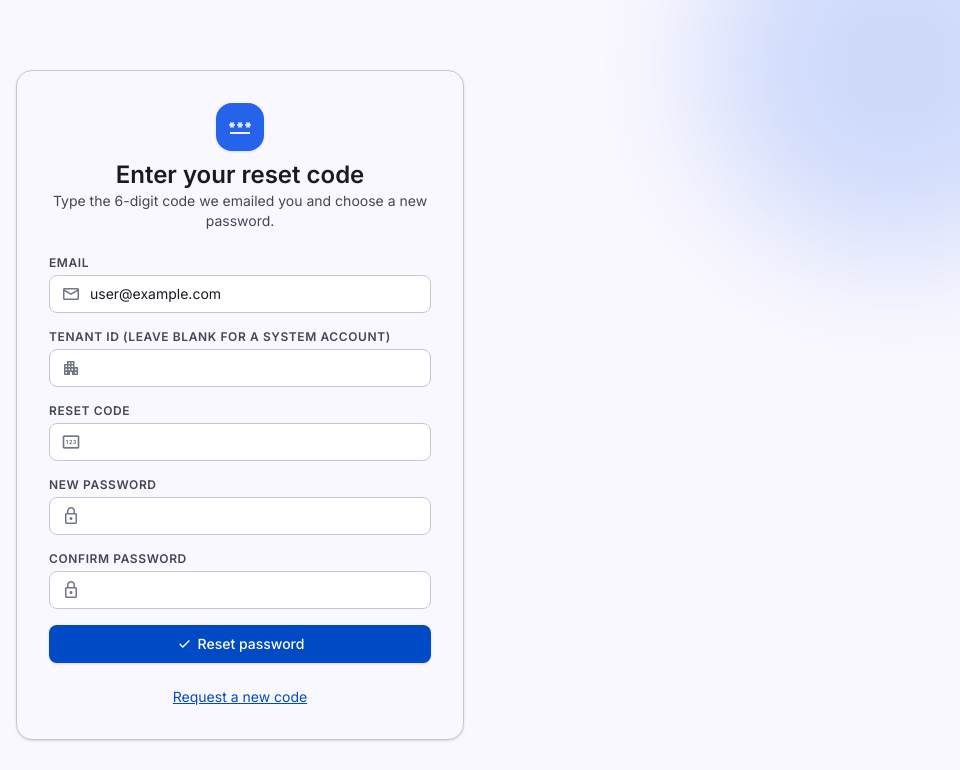
Test case: ResetPasswordPage › requires the confirmation to match
The width and height of the screenshot is (960, 770).
Step 1. Type "123456" into the field labelled "Reset code" → (240, 442), box [49,423,431,461]
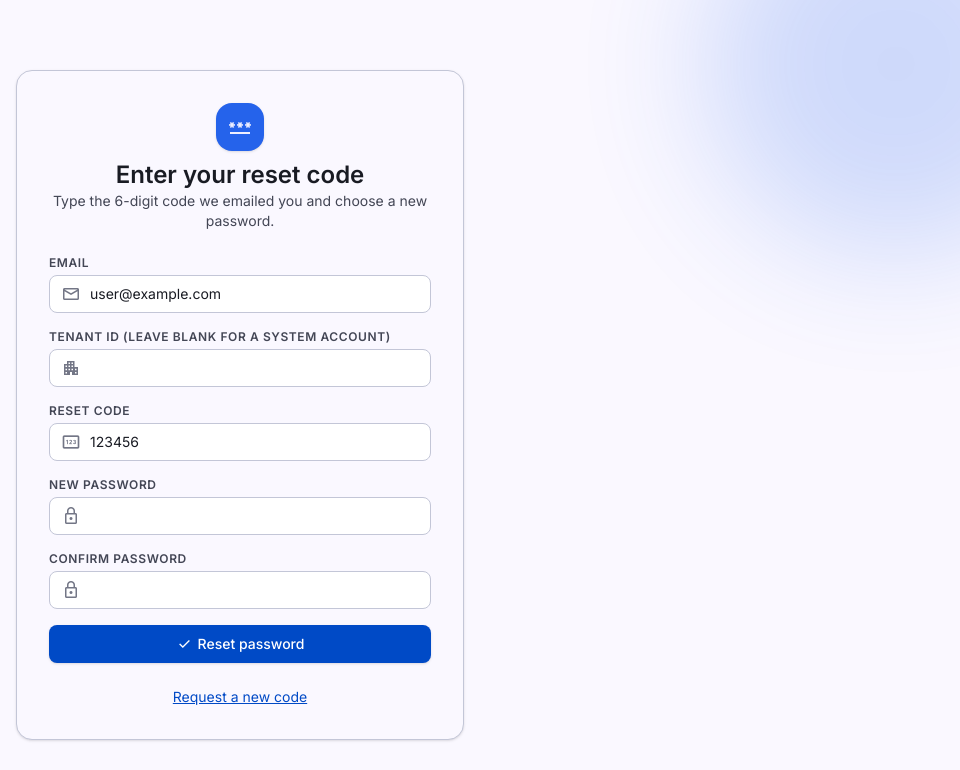
Step 2. Type "Str0ng!Passphrase" into the password field labelled "New password" → (240, 516), box [49,497,431,535]
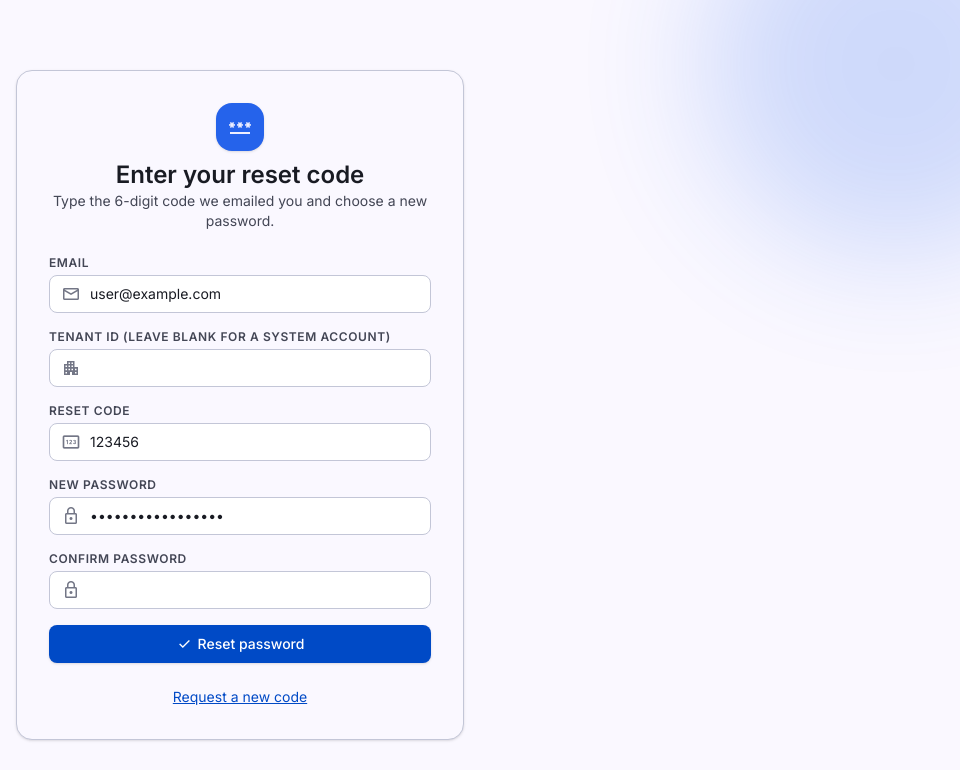
Step 3. Type "something-else" into the password field labelled "Confirm password" → (240, 590), box [49,571,431,609]
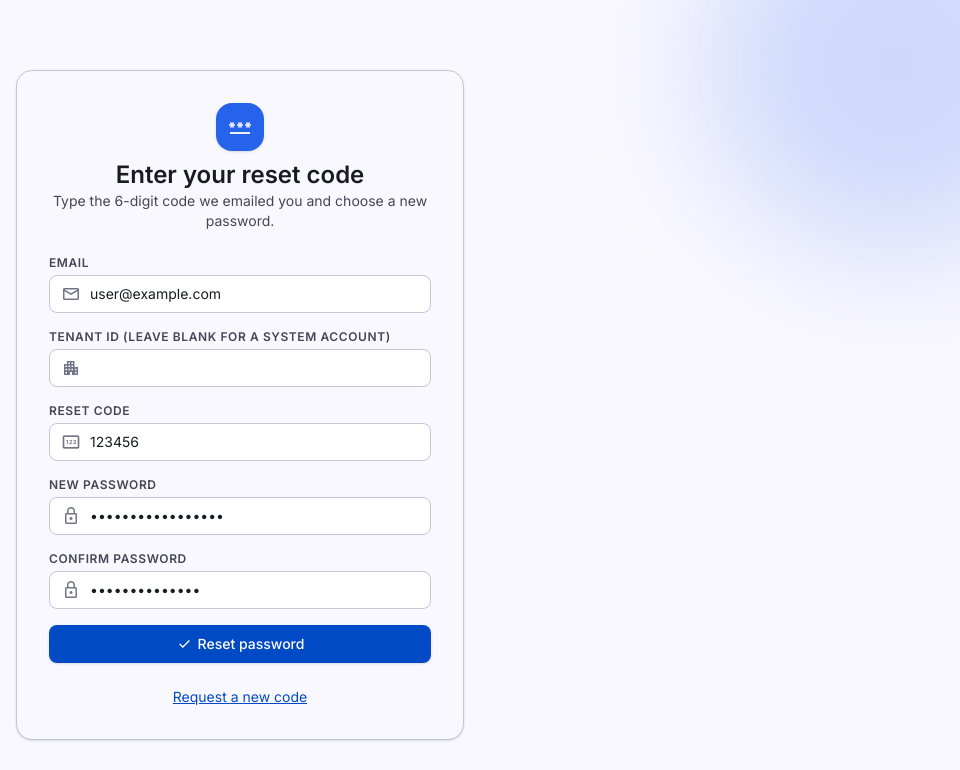
Step 4. Click the button "Reset password" → (240, 644), box [49,625,431,663]
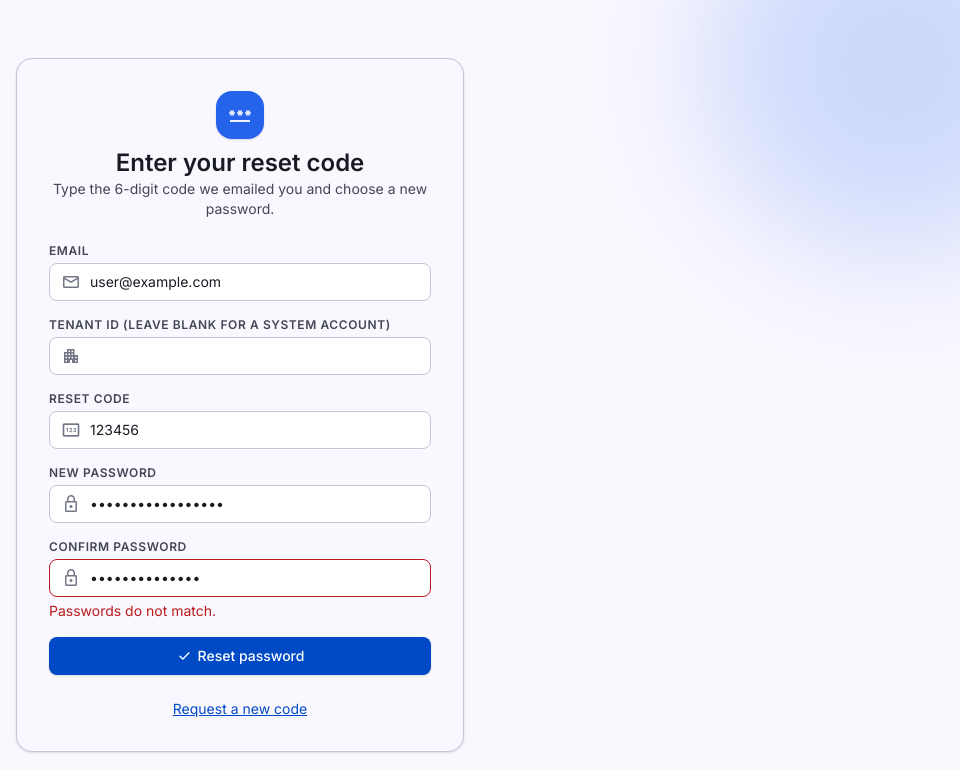
expect the text "Passwords do not match." is shown: met, box [49,602,216,619]
